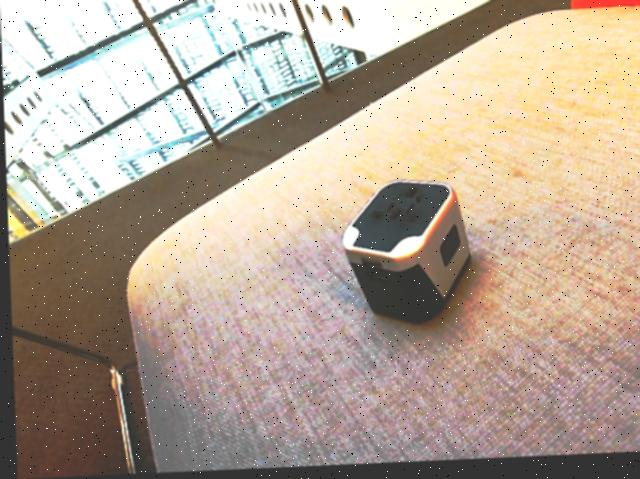adapter: (337, 180, 470, 330)
